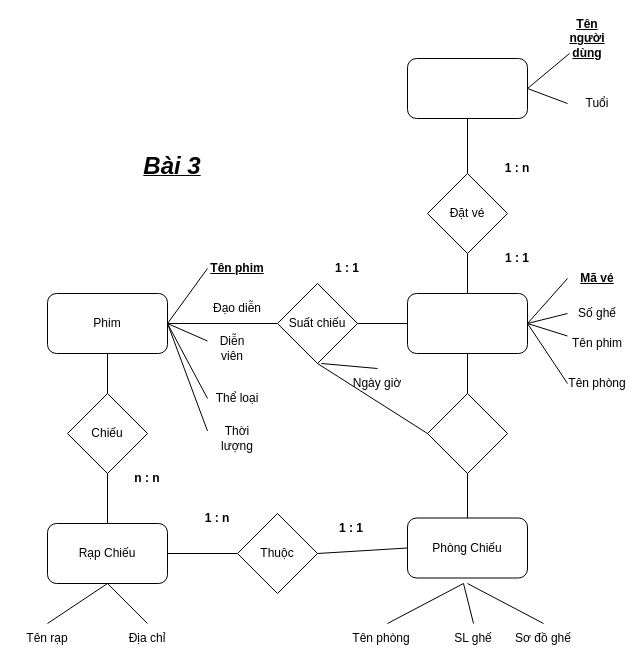
Image size: 644x671. Some labels were removed from this diagram. The shapes that lost their labels are listed below. From the top down, each one's centre as x and y in pixels, then its label:
(467,88): Người dùng
(467,323): Vé
(467,433): Tại
